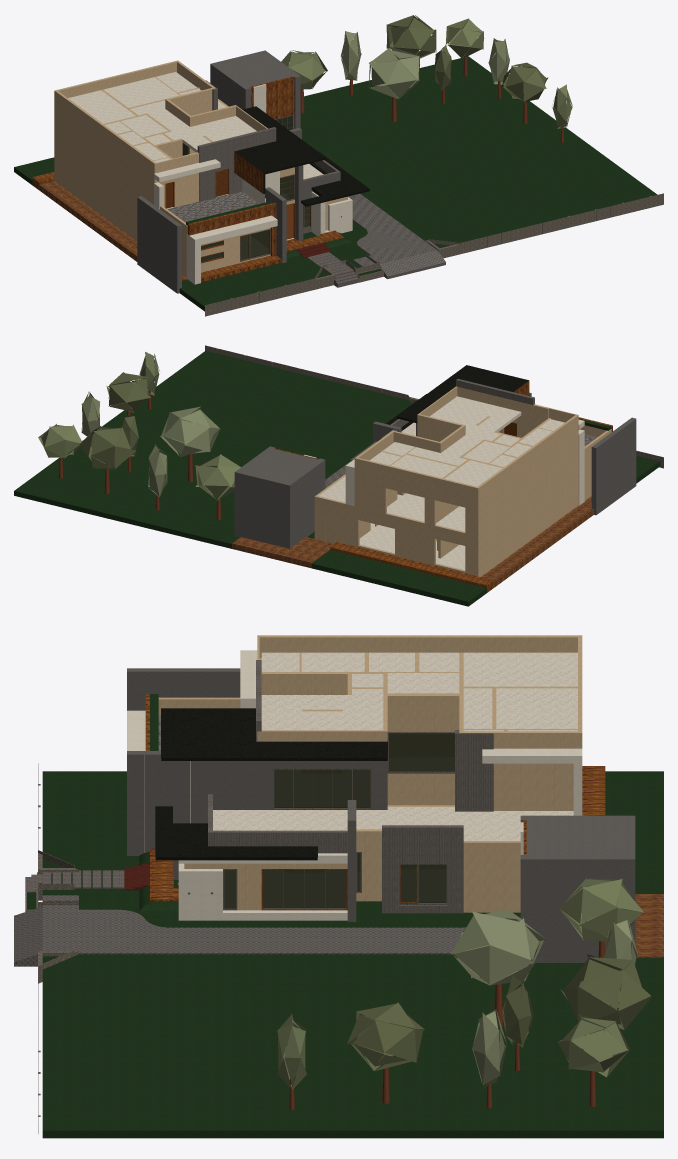
File: house.glb
3 views of the same model, one above another, from view 1: azimuth 30°, elevation 25°; view 2: azimuth 150°, elevation 25°; view 3: azimuth 270°, elevation 25° (orthographic). The views are drawn at different scales.
Visible parts, largest first — view 1: Grass_Dark_Green_L0, Blacktop_Old_01_0_L0, Formica_Laminate_Light_L2, Carrera_Marble_L5, Formica_Laminate_Light_L5, Groundcover_Gravel_1_inch_L-1, Formica_Laminate_Light_L0, Concrete_Block_Retaining_Gray_L-1, Polished_Concrete_Old_L0, Wood_Floor_L0, Concrete_Scored_Jointless_L2, Blacktop_New_L4 (+19 smaller); view 2: Grass_Dark_Green_L0, Blacktop_Old_01_0_L0, Formica_Laminate_Light_L2, Formica_Laminate_Light_L0, Carrera_Marble_L5, Formica_Laminate_Light_L5, Fencing_Wood_Old_L0, tree_7, Blacktop_New_L4, tree_2, Carrera_Marble_L2, Wood_Floor_L0 (+12 smaller); view 3: Grass_Dark_Green_L0, Blacktop_Old_01_0_L0, Carrera_Marble_L5, Concrete_Block_Retaining_Gray_L-1, Formica_Laminate_Light_L2, Formica_Laminate_Light_L5, Formica_Laminate_Light_L0, Blacktop_New_L4, Carrera_Marble_L2, Translucent_Glass_Gray_L2, Concrete_Scored_Jointless_L2, Translucent_Glass_Gray_L0 (+20 smaller).
Boxes of the visible parts, box(x1,y1,x2,y2) form: Grass_Dark_Green_L0: box(14, 56, 657, 311); Blacktop_Old_01_0_L0: box(137, 50, 303, 293); Formica_Laminate_Light_L2: box(54, 71, 294, 238); Carrera_Marble_L5: box(68, 72, 256, 162); Formica_Laminate_Light_L5: box(54, 60, 267, 173); Groundcover_Gravel_1_inch_L-1: box(205, 193, 663, 316); Formica_Laminate_Light_L0: box(54, 142, 347, 277); Concrete_Block_Retaining_Gray_L-1: box(348, 193, 445, 279); Polished_Concrete_Old_L0: box(154, 171, 352, 284); Wood_Floor_L0: box(32, 172, 343, 282); Concrete_Scored_Jointless_L2: box(197, 80, 340, 201); Blacktop_New_L4: box(234, 106, 325, 193); Grass_Dark_Green_L0: box(14, 350, 660, 606); Blacktop_Old_01_0_L0: box(234, 392, 636, 548); Formica_Laminate_Light_L2: box(314, 412, 611, 539); Formica_Laminate_Light_L0: box(314, 457, 591, 576); Carrera_Marble_L5: box(369, 396, 564, 486); Formica_Laminate_Light_L5: box(354, 386, 578, 497); Fencing_Wood_Old_L0: box(232, 496, 593, 587); tree_7: box(160, 406, 220, 481); Blacktop_New_L4: box(396, 365, 529, 423); tree_2: box(79, 425, 135, 493); Carrera_Marble_L2: box(318, 422, 465, 531); Wood_Floor_L0: box(329, 417, 612, 592); Grass_Dark_Green_L0: box(27, 771, 663, 1138); Blacktop_Old_01_0_L0: box(127, 668, 635, 962); Carrera_Marble_L5: box(261, 652, 577, 731); Concrete_Block_Retaining_Gray_L-1: box(14, 895, 519, 966); Formica_Laminate_Light_L2: box(158, 652, 577, 847); Formica_Laminate_Light_L5: box(257, 635, 582, 748); Formica_Laminate_Light_L0: box(184, 779, 520, 912); Blacktop_New_L4: box(161, 708, 387, 760); Carrera_Marble_L2: box(213, 807, 573, 840); Translucent_Glass_Gray_L2: box(274, 733, 454, 808); Concrete_Scored_Jointless_L2: box(208, 660, 493, 853); Translucent_Glass_Gray_L0: box(224, 853, 446, 908).
Bounding box in the file's own units: 45.72 × 10.01 × 34.59.
26 materials, 26 textured.
